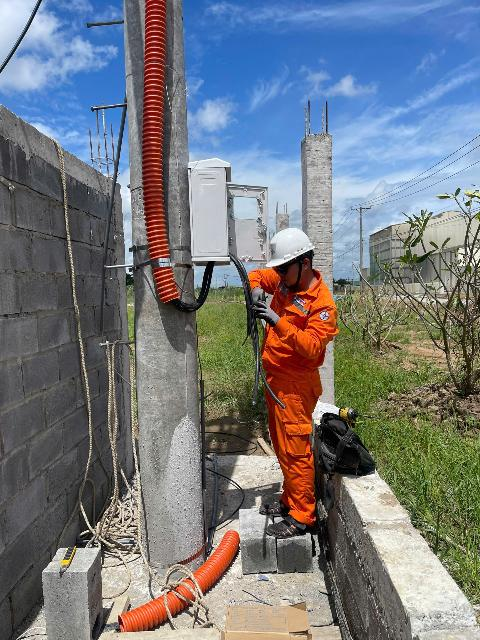gloves: (251, 299, 284, 326), (246, 284, 271, 305)
helmet: (258, 228, 331, 272)
shoes: (253, 510, 327, 541), (253, 492, 296, 516)
